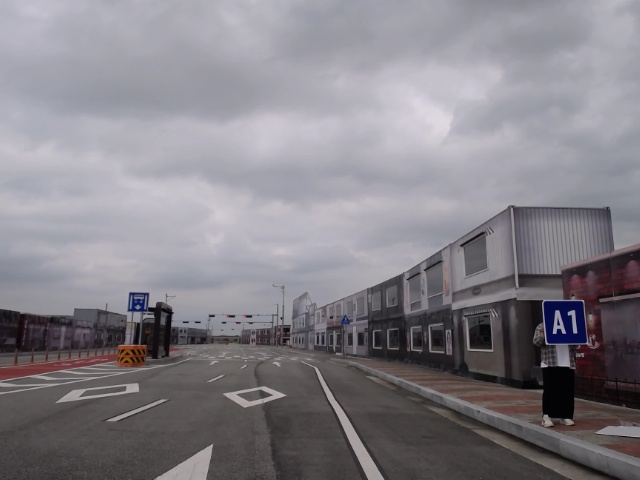delivery_a1: (542, 300, 588, 345)
